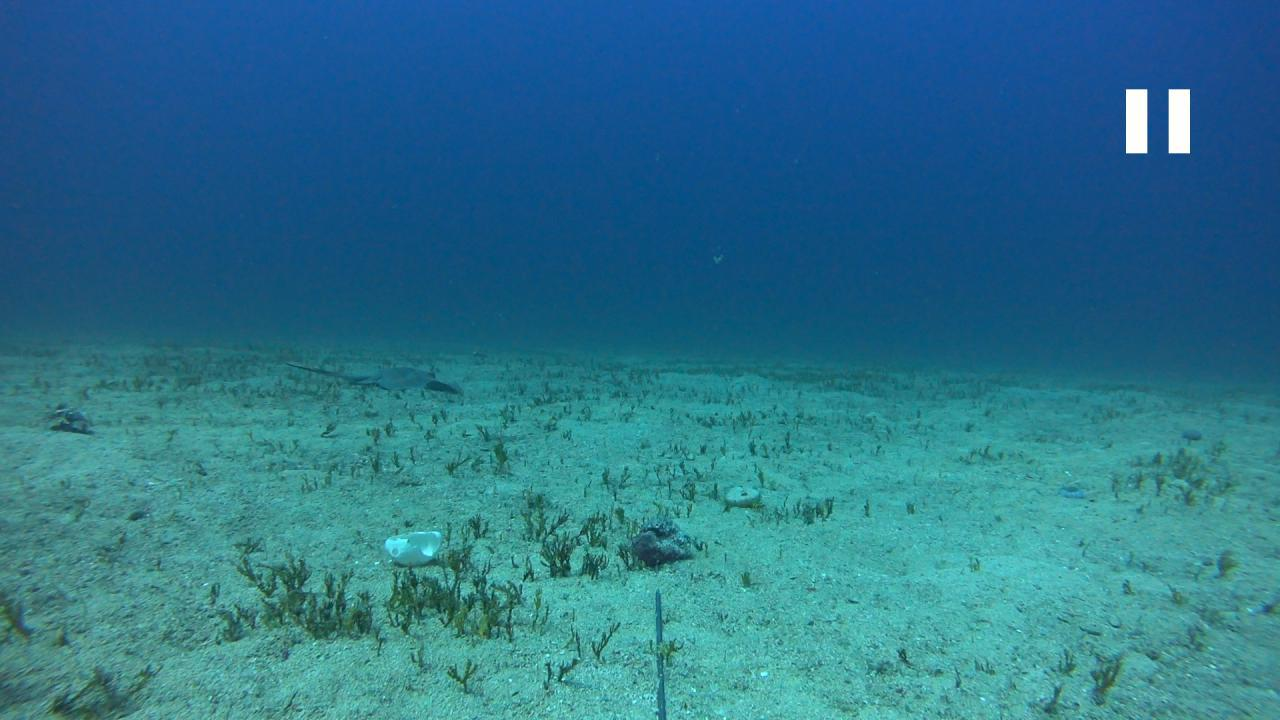dasyatis: (284, 359, 462, 395)
